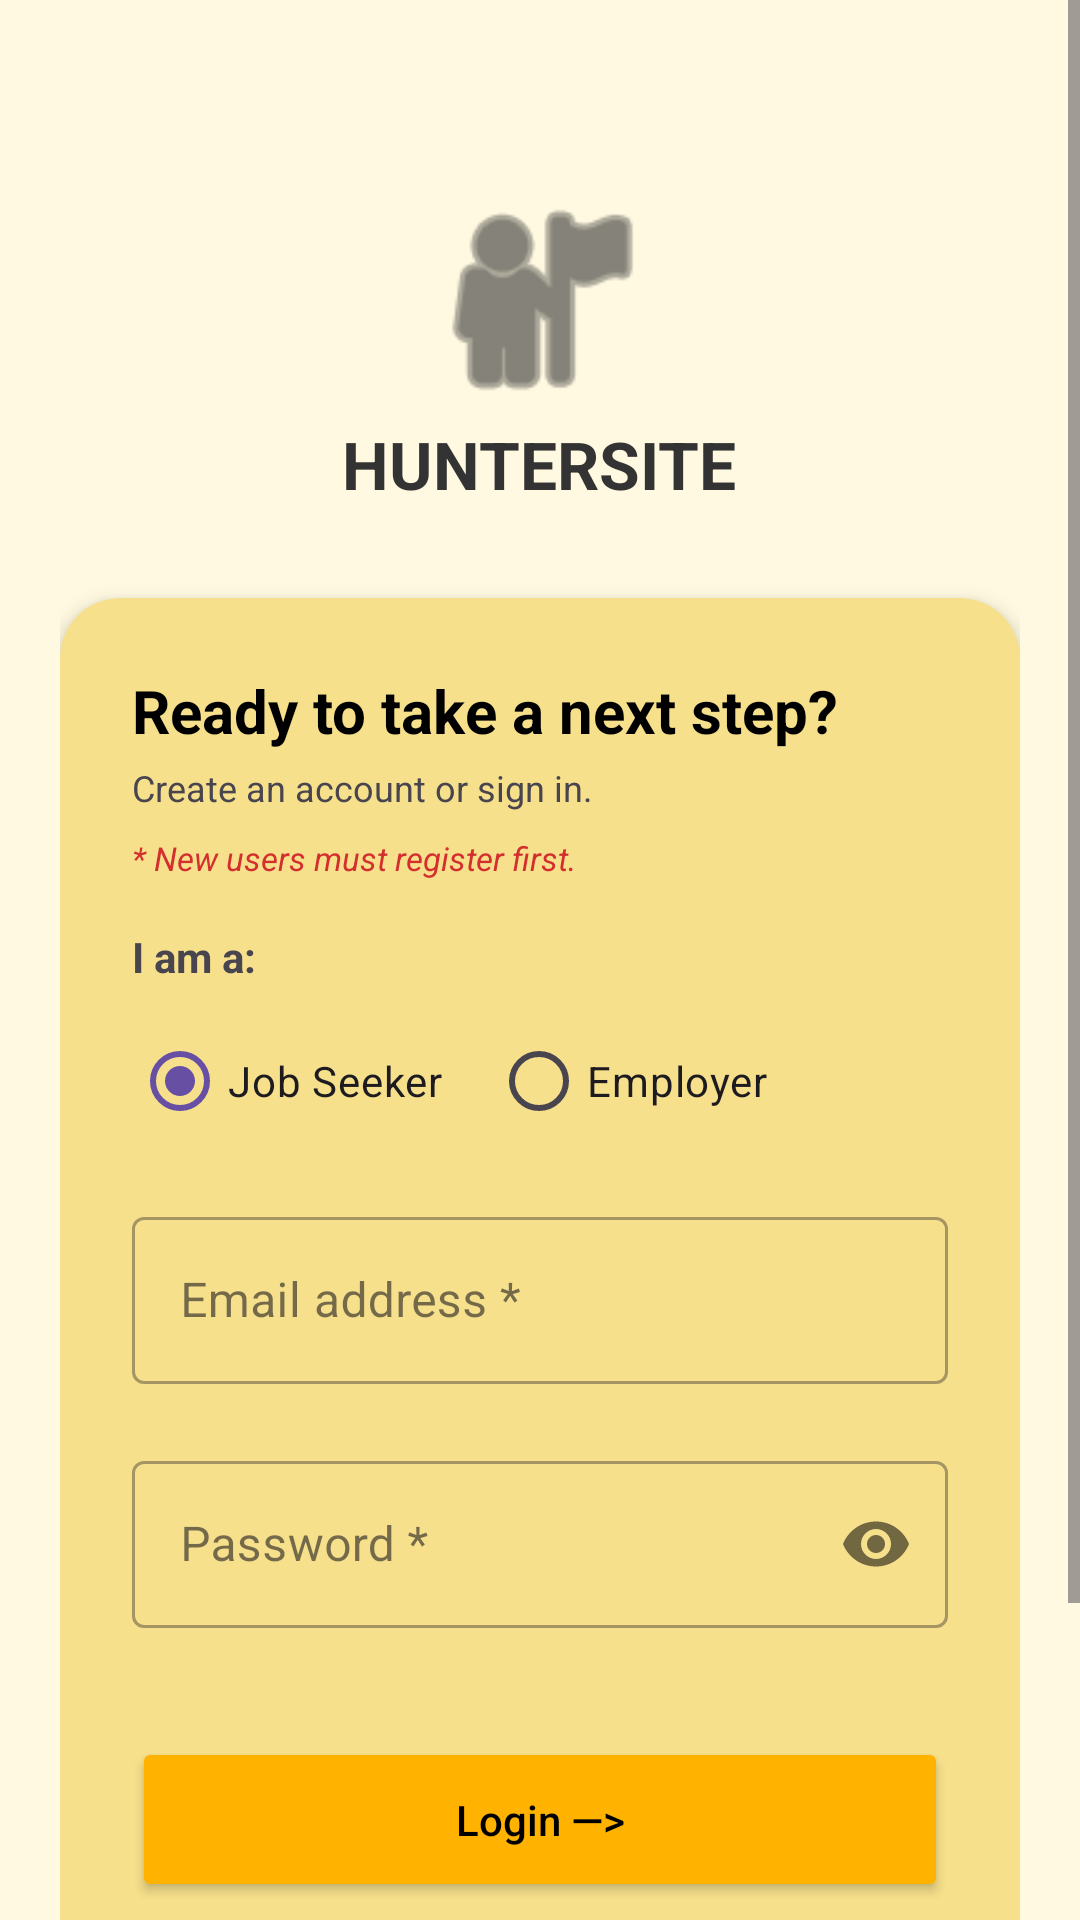

Locate icon controls on the screen. Image size 1080px x 1920px, boxes as BBox(x1, y1, x2, y2).
myplaces: BBox(452, 210, 633, 390)
